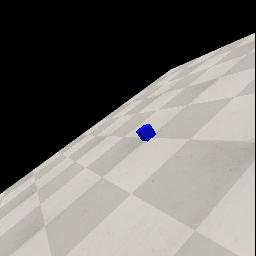box: (136, 124, 156, 142)
